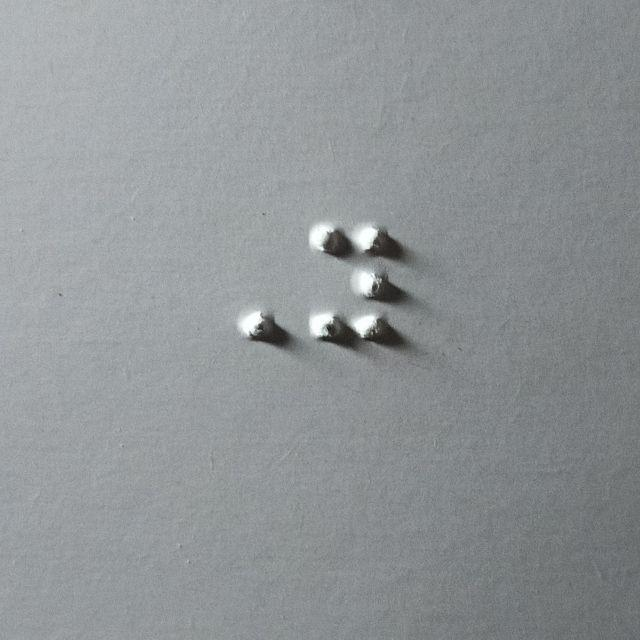Y: (307, 220, 392, 348)
capital: (191, 219, 278, 344)
